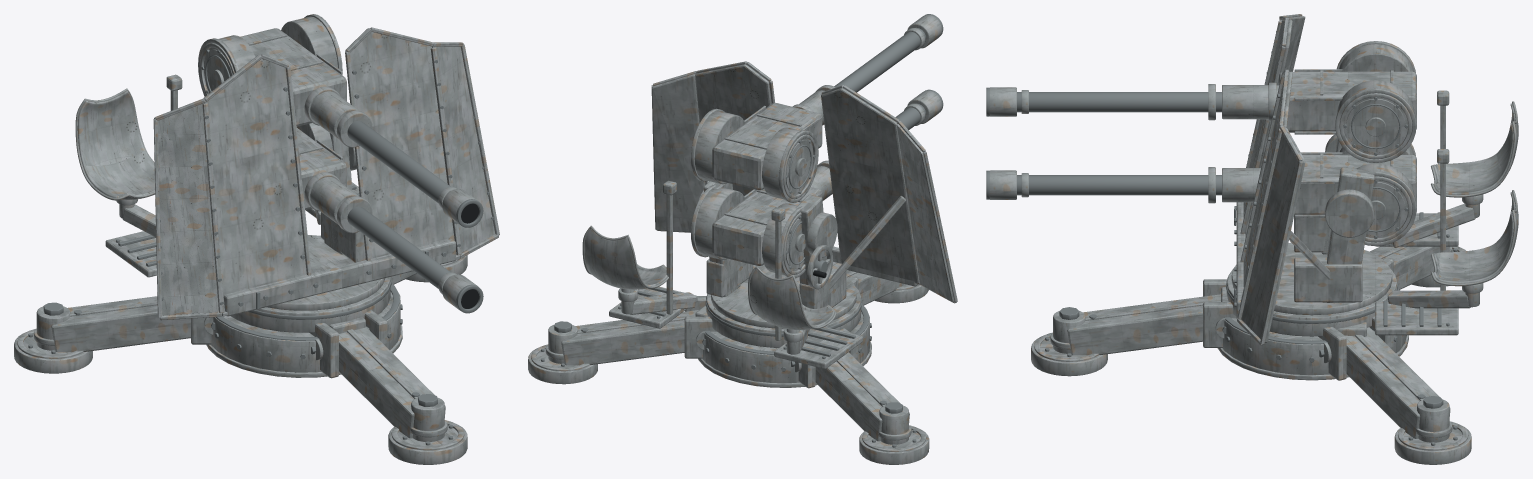
File: Flakzwilling-F2-unified-export.glb
3 renders of one model, left to right at view 1: azimuth 30°, elevation 25°; view 2: azimuth 150°, elevation 25°; view 3: azimuth 270°, elevation 25°, orthographic. The views are drawn at different scales.
Visible parts, largest first — view 1: FZ43_Shield_Center_-1, FZ43_Shield_Center_1, FZ43_Shield_Folded_Wing_-1, FZ43_Rounded_Concave_Seat_-1, FZ43_Shield_Folded_Wing_1, FZ43_Tripod_Arm_2, FZ43_Shield_Bottom_Closed_Bridge, FZ43_Tripod_Arm_0, FZ43_Base_Low_Cylinder, FZ43_upper_Closed_Housing, FZ43_Upper_Turntable, FZ43_Low_Turntable (+34 smaller); view 2: FZ43_Shield_Center_-1, FZ43_Shield_Folded_Wing_1, FZ43_upper_Closed_Housing, FZ43_Shield_Folded_Wing_-1, FZ43_Tripod_Arm_1, FZ43_lower_Closed_Housing, FZ43_Shield_Center_1, FZ43_Base_Low_Cylinder, FZ43_Tripod_Arm_2, FZ43_Rounded_Concave_Seat_1, FZ43_Rounded_Concave_Seat_-1, FZ43_Upper_Turntable (+38 smaller); view 3: FZ43_Tripod_Arm_0, FZ43_Shield_Folded_Wing_1, FZ43_Tripod_Arm_1, FZ43_upper_Closed_Housing, FZ43_lower_Closed_Outer_Tube, FZ43_upper_Closed_Outer_Tube, FZ43_Base_Low_Cylinder, FZ43_Upper_Turntable, FZ43_lower_Closed_Housing, FZ43_Support_Lower_Gusset_1, FZ43_Rounded_Concave_Seat_1, FZ43_Rounded_Concave_Seat_-1 (+41 smaller).
Boxes of the visible parts, box(x1,y1,x2,y2) form: FZ43_Shield_Center_-1: box(204, 55, 306, 311); FZ43_Shield_Center_1: box(345, 28, 456, 258); FZ43_Shield_Folded_Wing_-1: box(154, 103, 218, 315); FZ43_Rounded_Concave_Seat_-1: box(77, 91, 155, 199); FZ43_Shield_Folded_Wing_1: box(432, 46, 495, 252); FZ43_Tripod_Arm_2: box(51, 296, 190, 352); FZ43_Shield_Bottom_Closed_Bridge: box(223, 239, 455, 316); FZ43_Tripod_Arm_0: box(339, 327, 445, 438); FZ43_Base_Low_Cylinder: box(211, 292, 400, 372); FZ43_upper_Closed_Housing: box(240, 28, 346, 126); FZ43_Upper_Turntable: box(266, 235, 385, 310); FZ43_Low_Turntable: box(231, 277, 390, 332); FZ43_Shield_Center_-1: box(821, 88, 919, 284); FZ43_Shield_Folded_Wing_1: box(651, 74, 705, 232); FZ43_upper_Closed_Housing: box(712, 103, 822, 190); FZ43_Shield_Folded_Wing_-1: box(896, 124, 954, 302); FZ43_Tripod_Arm_1: box(561, 310, 698, 365); FZ43_lower_Closed_Housing: box(712, 187, 822, 265); FZ43_Shield_Center_1: box(695, 64, 771, 195); FZ43_Base_Low_Cylinder: box(702, 310, 869, 383); FZ43_Tripod_Arm_2: box(815, 352, 909, 441); FZ43_Rounded_Concave_Seat_1: box(584, 228, 667, 289); FZ43_Rounded_Concave_Seat_-1: box(750, 269, 834, 329); FZ43_Upper_Turntable: box(711, 264, 856, 328); FZ43_Tripod_Arm_0: box(1067, 294, 1220, 355); FZ43_Shield_Folded_Wing_1: box(1241, 127, 1305, 342); FZ43_Tripod_Arm_1: box(1345, 327, 1450, 438); FZ43_upper_Closed_Housing: box(1279, 71, 1416, 132); FZ43_lower_Closed_Outer_Tube: box(1017, 175, 1221, 195); FZ43_upper_Closed_Outer_Tube: box(1017, 92, 1221, 112); FZ43_Base_Low_Cylinder: box(1222, 318, 1406, 375); FZ43_Upper_Turntable: box(1231, 242, 1392, 315); FZ43_lower_Closed_Housing: box(1294, 154, 1416, 215); FZ43_Support_Lower_Gusset_1: box(1294, 257, 1362, 302); FZ43_Rounded_Concave_Seat_1: box(1433, 192, 1518, 283); FZ43_Rounded_Concave_Seat_-1: box(1433, 103, 1518, 194).
Bounding box in the file's own units: 3.79 × 2.66 × 4.06.
Materials: 4 (2 with a texture image).
